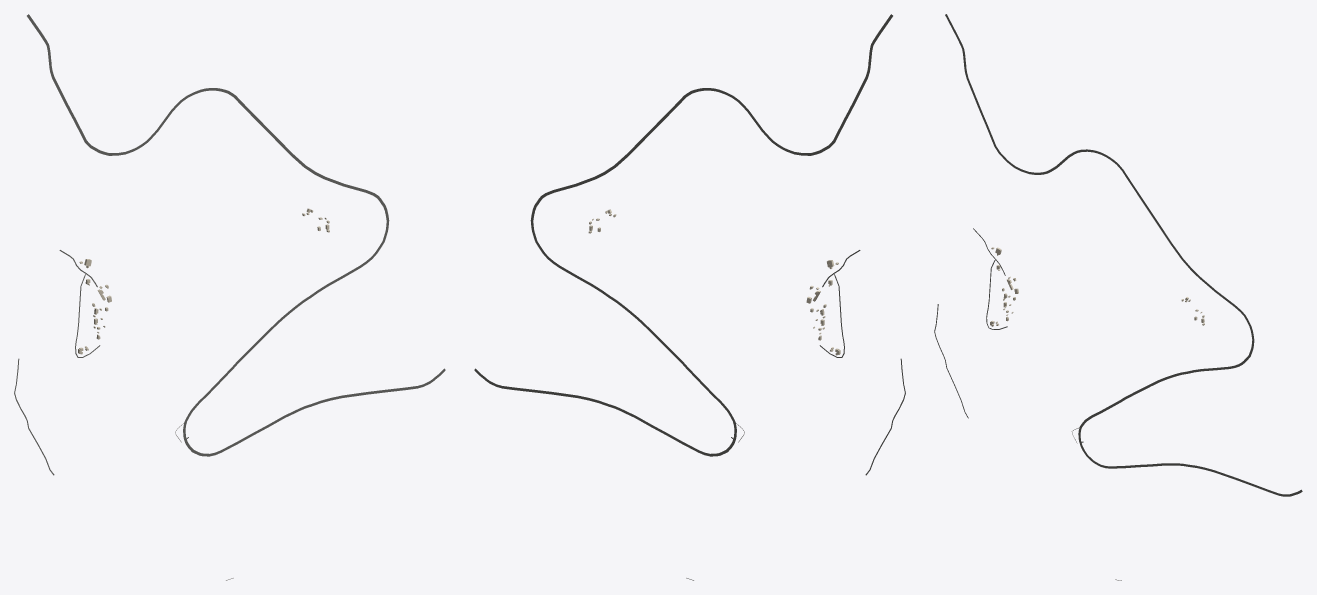
The model's file is historic-palestine-11_23_3529_3175.glb.
3 renders of one model, left to right at view 1: azimuth 30°, elevation 25°; view 2: azimuth 150°, elevation 25°; view 3: azimuth 330°, elevation 25°, orthographic. The views are drawn at different scales.
Visible parts, largest first — view 1: Road 417; view 2: Road 417; view 3: Road 417.
Boxes of the visible parts, left/top/right/bottom form: Road 417: left=27, top=14, right=445, bottom=456; Road 417: left=474, top=14, right=892, bottom=456; Road 417: left=945, top=14, right=1302, bottom=496.
Bounding box in the file's own units: 1354 × 1843 × 8.7.
